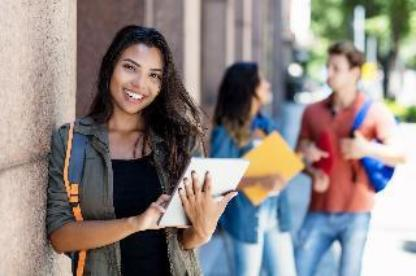person: (42, 20, 217, 276), (299, 35, 408, 276), (209, 55, 306, 276)
